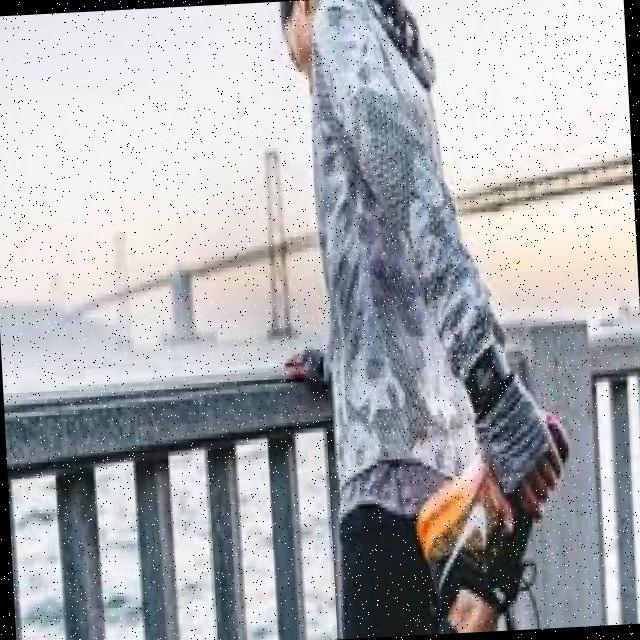Nike: (429, 498, 492, 592)
